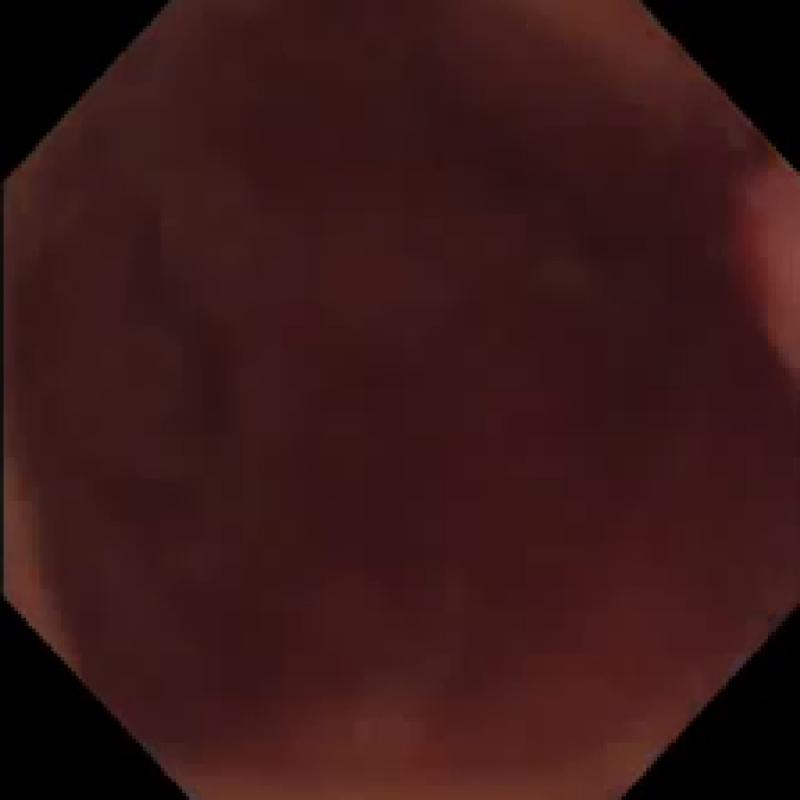bleeding: (725, 146, 800, 400)
